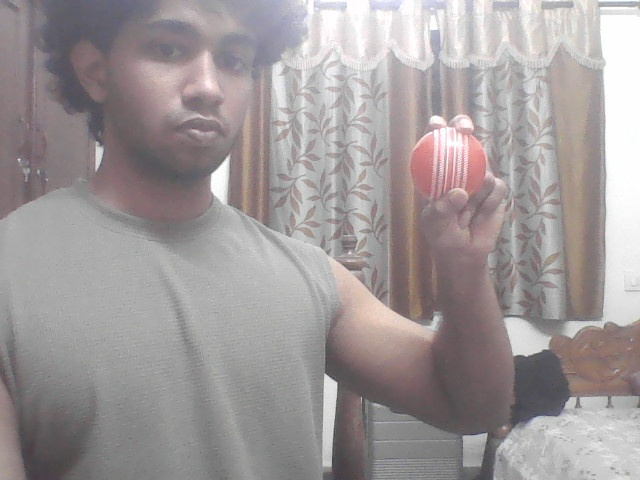cricket_ball: (405, 125, 500, 202)
